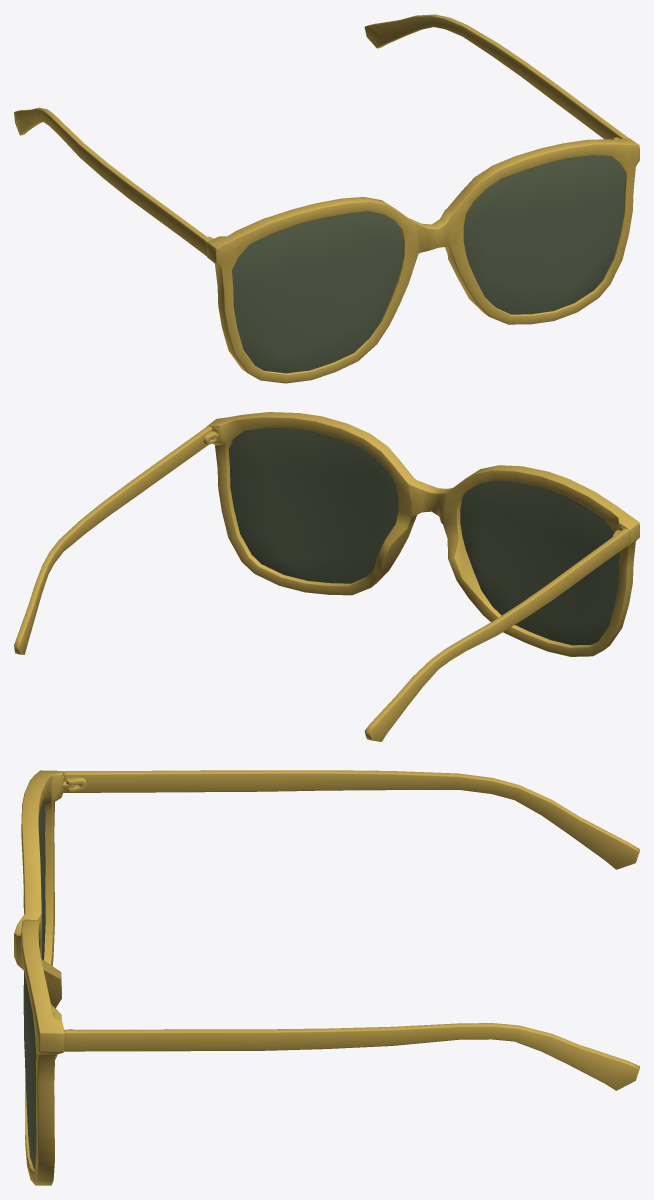
The model's file is sport-wrap-altin-metal.glb.
The picture shows the model from 3 angles, top to bottom: view 1: azimuth 30°, elevation 25°; view 2: azimuth 150°, elevation 25°; view 3: azimuth 270°, elevation 25°; orthographic projection. The views are drawn at different scales.
Parts seen in each view (by area): view 1: OPTIK_PRODUCT_256; view 2: OPTIK_PRODUCT_256; view 3: OPTIK_PRODUCT_256.
Part boxes in pixels (x1=…): OPTIK_PRODUCT_256: x1=14, y1=14, x2=639, y2=383; OPTIK_PRODUCT_256: x1=14, y1=412, x2=639, y2=741; OPTIK_PRODUCT_256: x1=14, y1=770, x2=639, y2=1185.
Bounding box in the file's own units: 0.1527 × 0.0593 × 0.1539.
